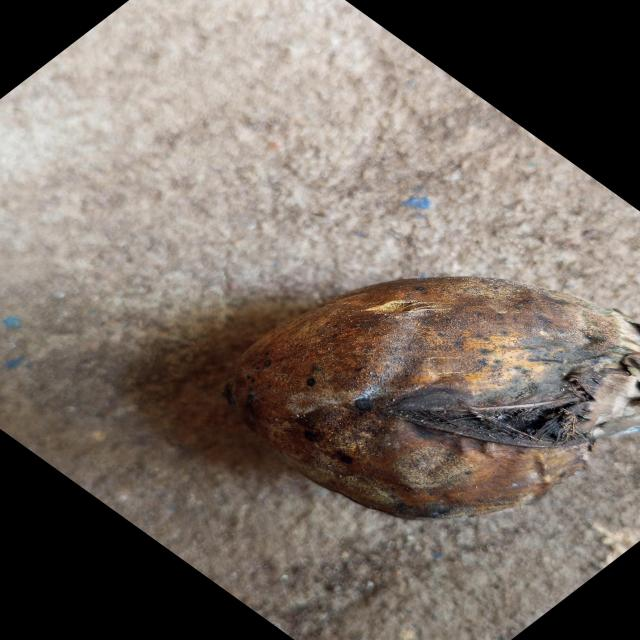damaged: (223, 277, 640, 523)
